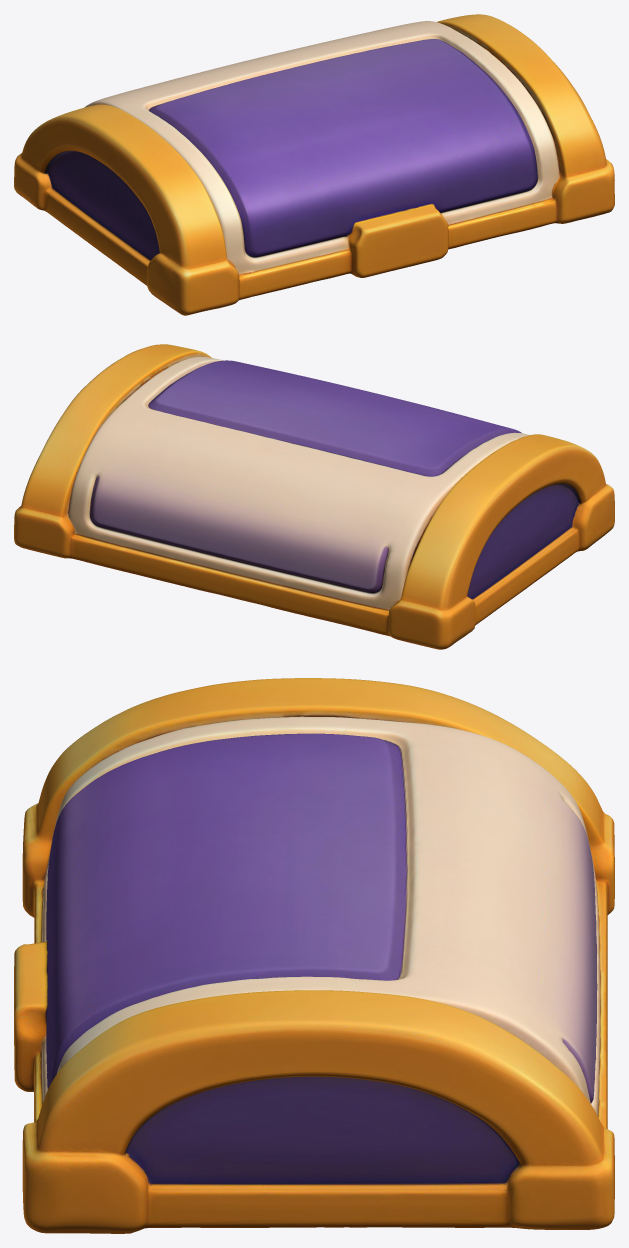
File: lid.glb
The picture shows the model from 3 angles, top to bottom: view 1: azimuth 30°, elevation 25°; view 2: azimuth 150°, elevation 25°; view 3: azimuth 270°, elevation 25°; orthographic projection. The views are drawn at different scales.
Parts seen in each view (by area): view 1: ChogChestLid; view 2: ChogChestLid; view 3: ChogChestLid.
Boxes of the visible parts, x1,y1,x2,y2 form: ChogChestLid: (14, 14, 614, 315); ChogChestLid: (14, 344, 614, 649); ChogChestLid: (14, 678, 614, 1233).
Size of the model in its own units: 2.6 by 0.7 by 1.8.
2 materials, 1 textured.
